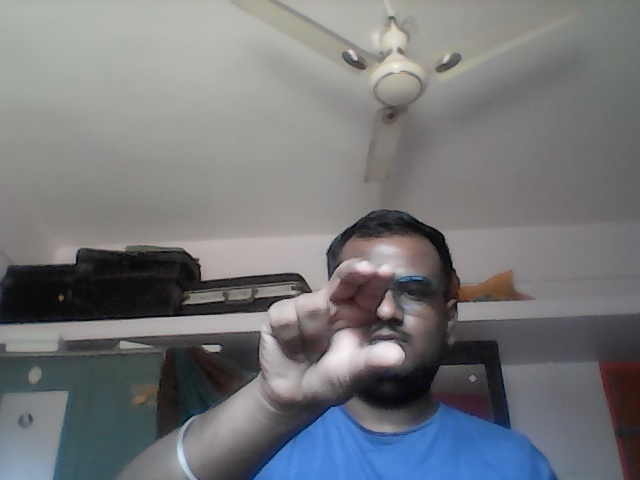No: (258, 255, 409, 407)
